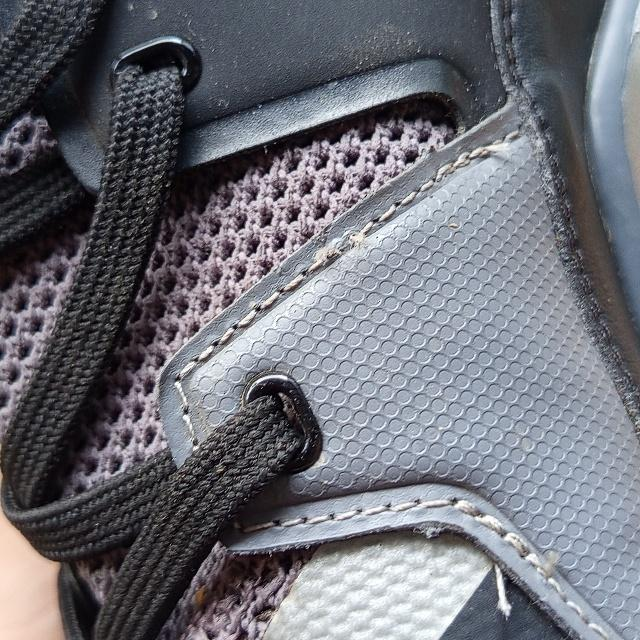broken: (314, 225, 374, 262)
